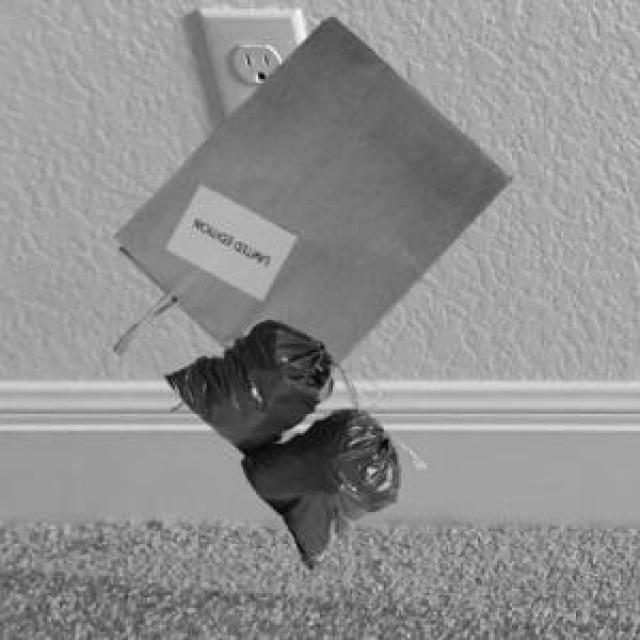miscellaneous trash: (162, 316, 422, 565)
paper: (111, 13, 508, 358)
